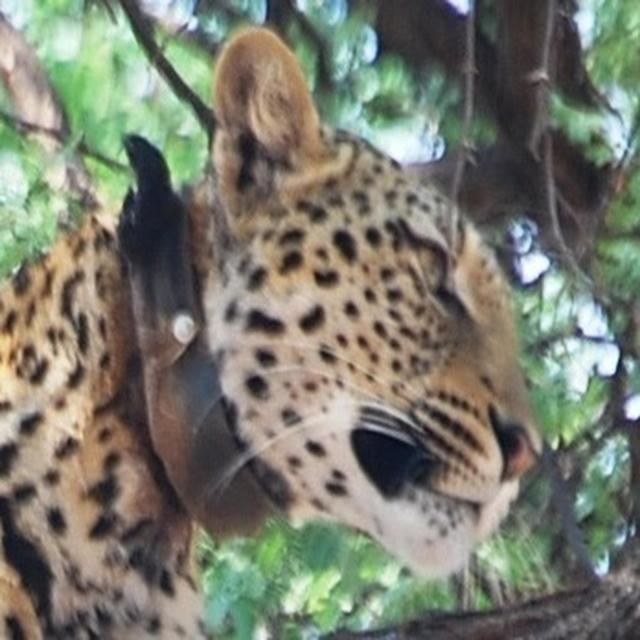Leopard: (0, 55, 568, 640)
